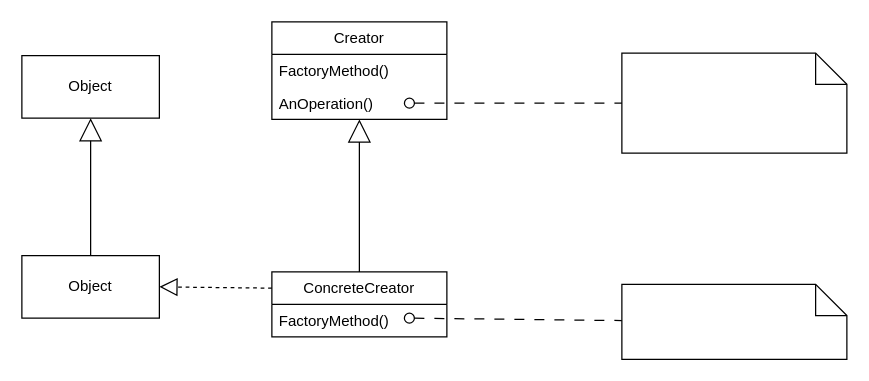
Image size: 869x381. Some labels were removed from this diagram. The shapes that lost their labels are listed below. From the top down, each one's centre as x and y in pixels, then its label:
pixel 734 102: ... product = FactoryMethod() ...
pixel 734 321: return new ConcreteProduct
